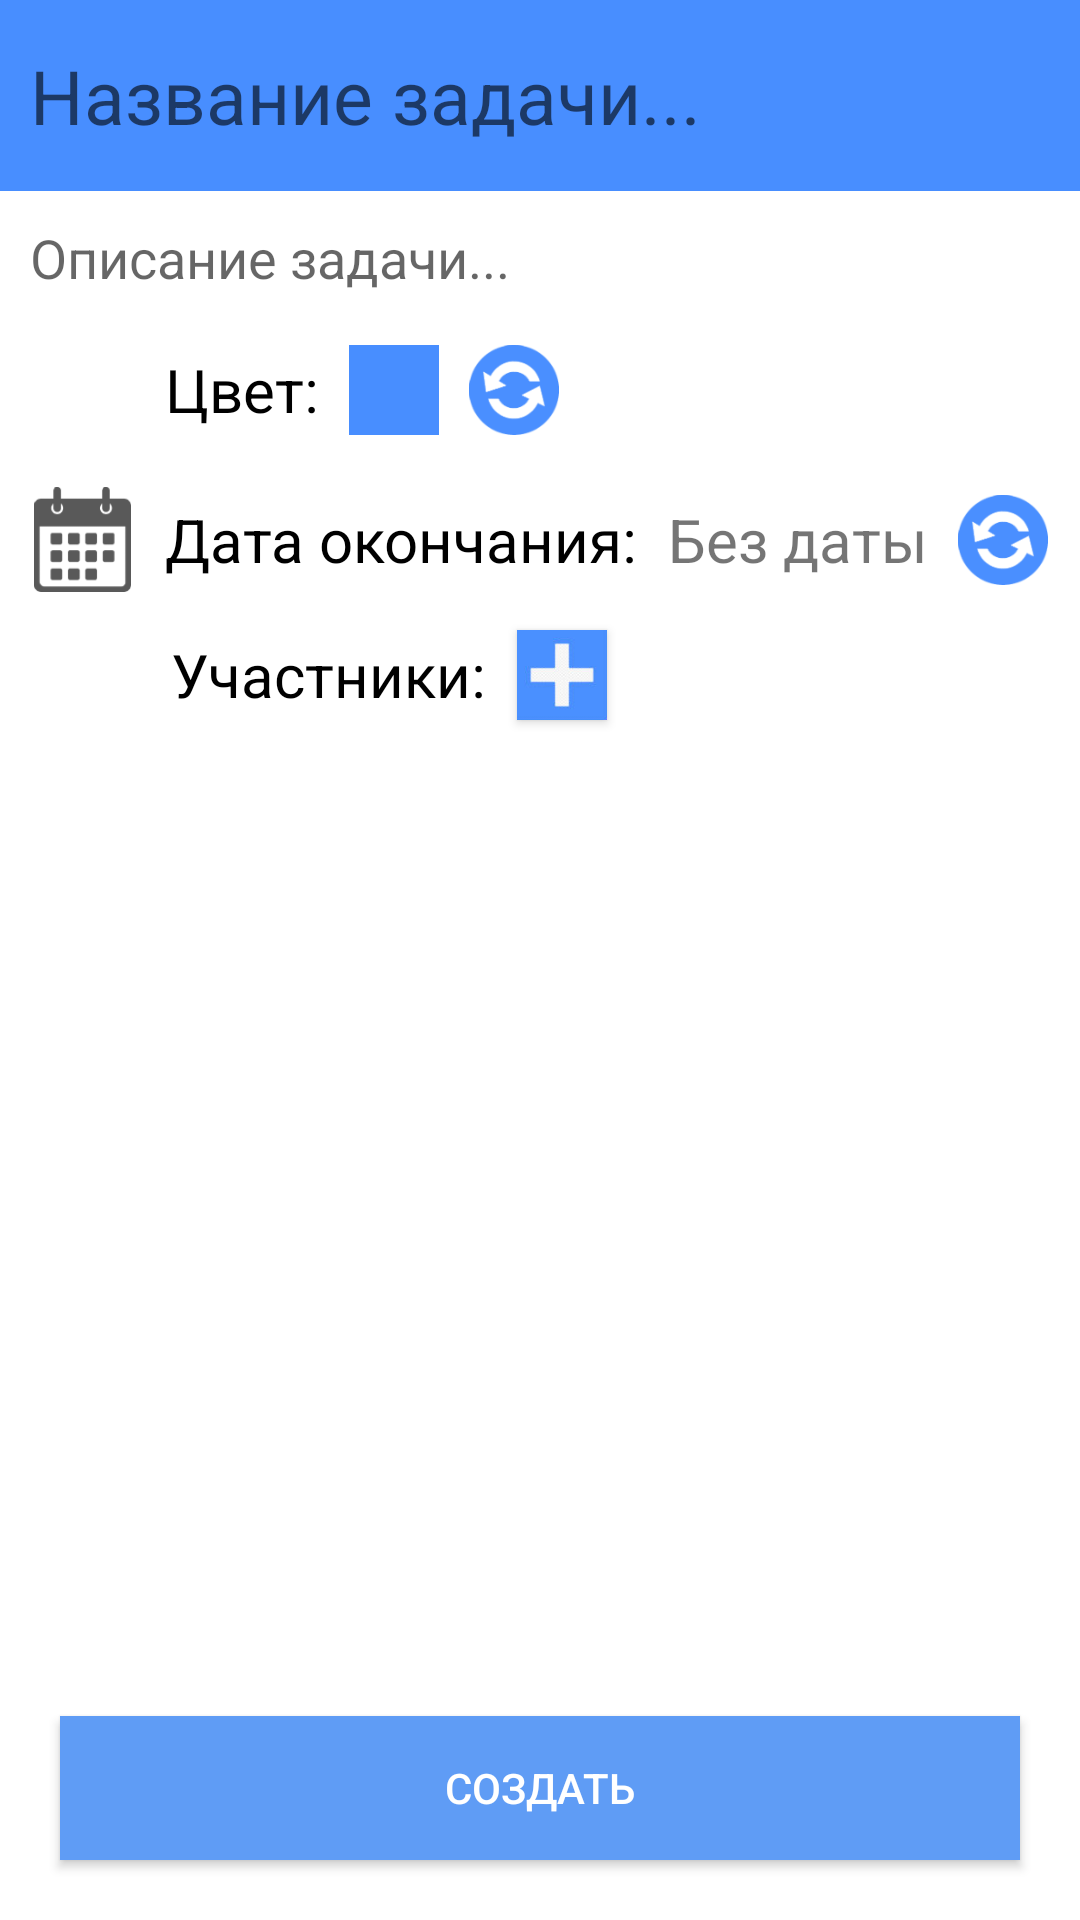

Named icons in this screenshot (1080 x 1920) and their bounding boxes, (x1, y1, x2, y2):
add participant: (517, 630, 607, 720)
calendar: (34, 487, 131, 592)
update: (469, 345, 559, 435), (958, 495, 1048, 585)
